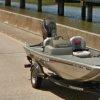Boat: (20, 23, 100, 99)
